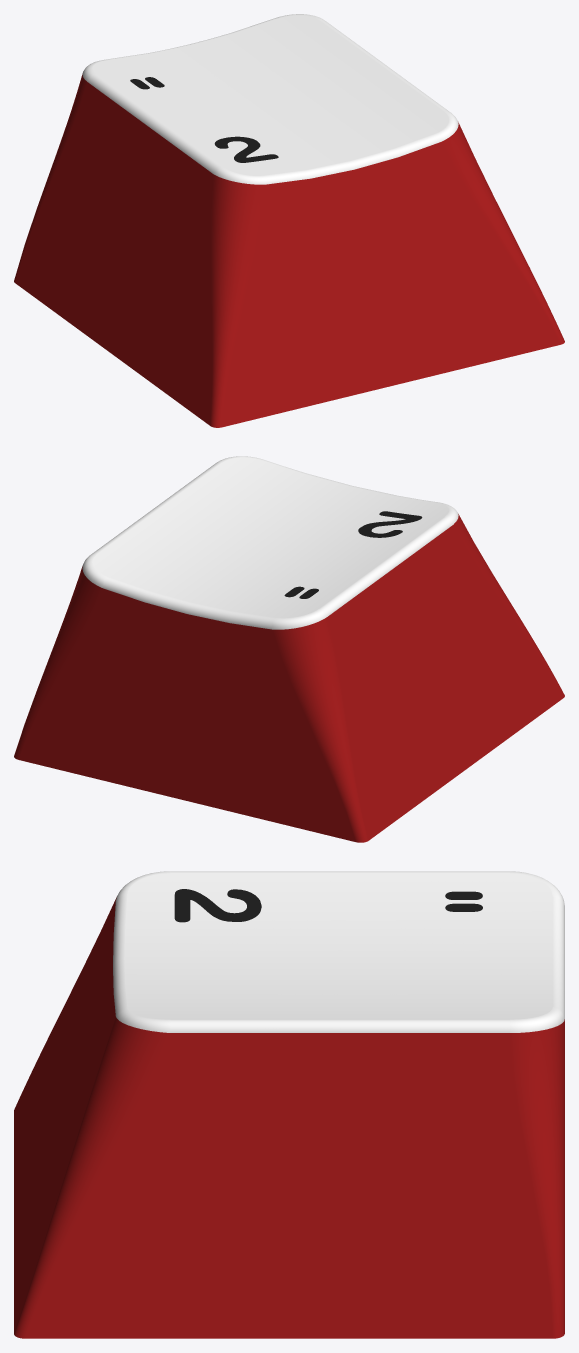
File: 2 ISO.fbx
3 views of the same model, one above another, from view 1: azimuth 30°, elevation 25°; view 2: azimuth 150°, elevation 25°; view 3: azimuth 270°, elevation 25° (orthographic). The views are drawn at different scales.
Visible parts, largest first — view 1: Body1; view 2: Body1; view 3: Body1.
Part boxes in pixels (box(x1,y1,x2,y2)): Body1: box(14, 14, 564, 427); Body1: box(14, 456, 564, 842); Body1: box(14, 871, 564, 1338).
Size of the model in its own units: 18 by 9.95 by 18.
